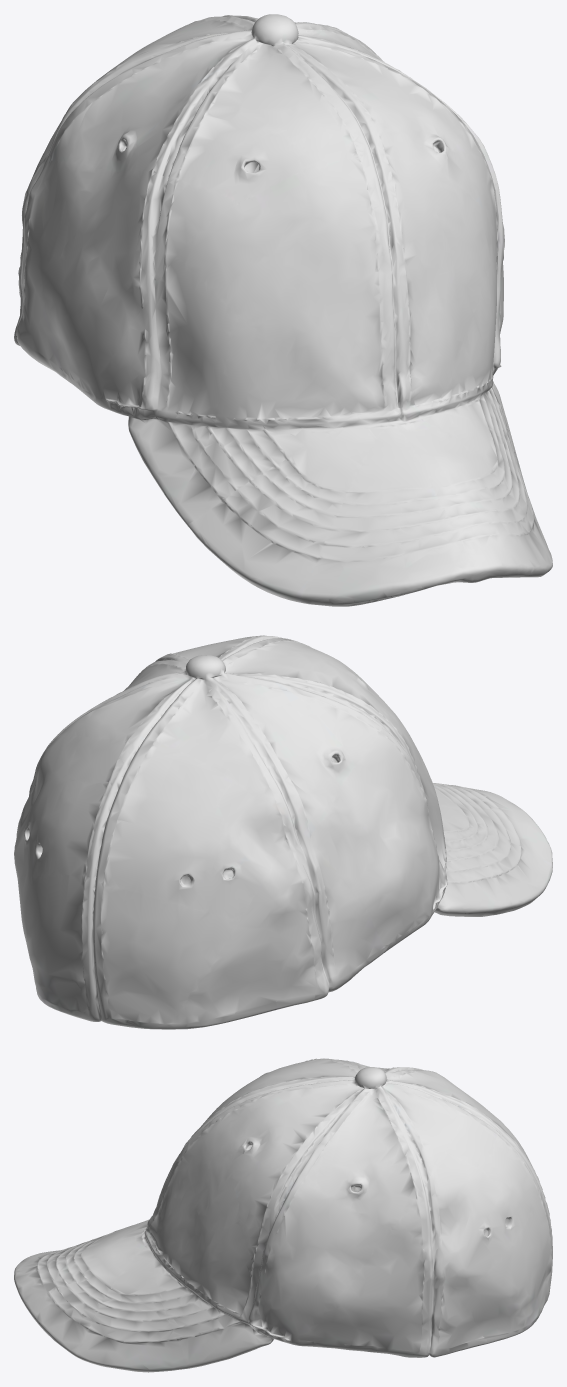
3 views of the same model, one above another, from view 1: azimuth 30°, elevation 25°; view 2: azimuth 150°, elevation 25°; view 3: azimuth 270°, elevation 25° (orthographic). The views are drawn at different scales.
Visible parts, largest first — view 1: tripo_node_fb4ccc88-b2b6-4719-9ee6-e422a0726d38; view 2: tripo_node_fb4ccc88-b2b6-4719-9ee6-e422a0726d38; view 3: tripo_node_fb4ccc88-b2b6-4719-9ee6-e422a0726d38.
Boxes of the visible parts, <box> form: tripo_node_fb4ccc88-b2b6-4719-9ee6-e422a0726d38: <box>14,14,552,606</box>; tripo_node_fb4ccc88-b2b6-4719-9ee6-e422a0726d38: <box>14,635,552,1029</box>; tripo_node_fb4ccc88-b2b6-4719-9ee6-e422a0726d38: <box>14,1058,552,1372</box>.
Bounding box in the file's own units: 0.6523 × 0.6319 × 1.11.
Materials: 1 (1 with a texture image).
